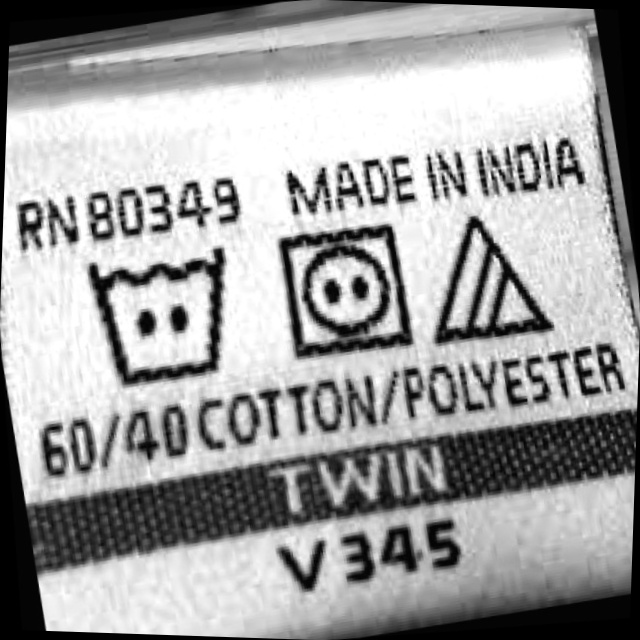40C: (68, 226, 259, 406)
non_chlorine_bleach: (403, 198, 565, 362)
tumble_dry_medium: (261, 207, 428, 373)
